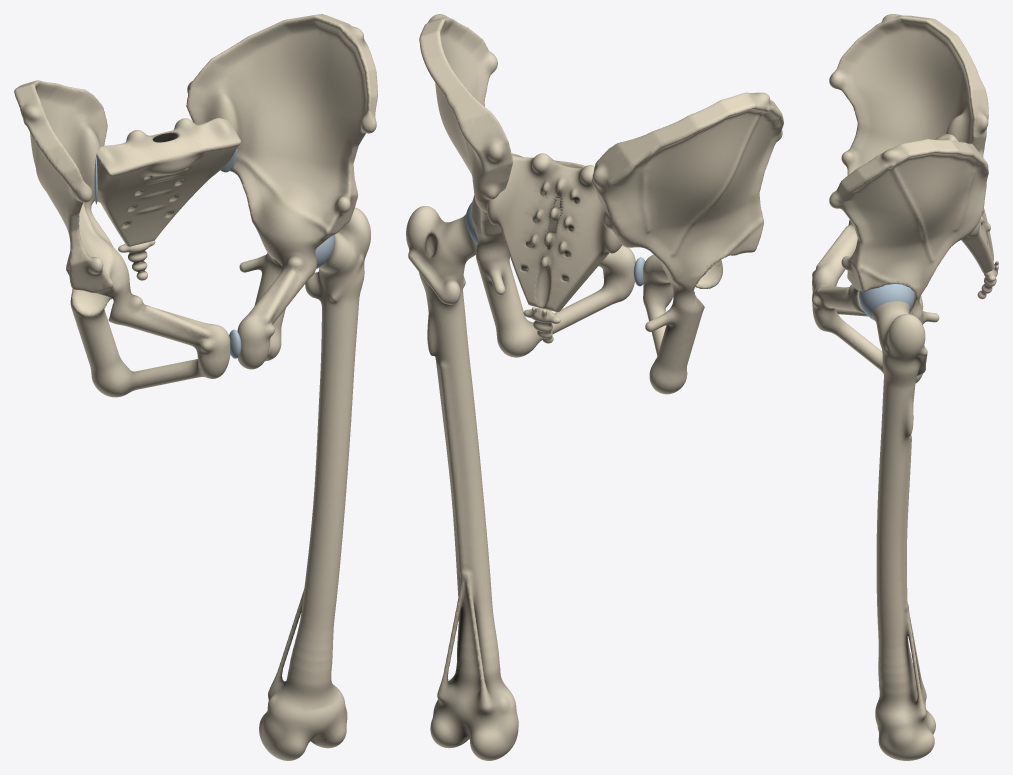
Rendered from articulacion-de-la-cadera-anterior.glb.
The picture shows the model from 3 angles, left to right: view 1: azimuth 30°, elevation 25°; view 2: azimuth 150°, elevation 25°; view 3: azimuth 270°, elevation 25°; orthographic projection. The views are drawn at different scales.
Visible parts, largest first — view 1: ilium_L, femur_L_shaft, ilium_R, pubis_R, pubis_L, ischium_R, sacrum_ala, femur_L_neck, femur_L_patellar_surface, ischium_L, sacrum_S5, sacrum_S3 (+7 smaller); view 2: ilium_R, femur_L_shaft, ilium_L, ischium_L, ischium_R, sacrum_lateral_crests, pubis_L, sacrum_S5, femur_L_greater_trochanter, pubis_R, femur_L_neck, femur_L_linea_aspera (+11 smaller); view 3: ilium_L, ilium_R, femur_L_shaft, pubis_L, femur_L_greater_trochanter, pubis_R, femur_L_neck, femur_L_lateral_condyle, femoral_head_cartilage_L, ischium_L, sacrum_S5, femur_L_supracondylar_lines (+3 smaller).
Boxes of the visible parts, box(x1,y1,x2,y2) form: ilium_L: box(186, 14, 377, 245); femur_L_shaft: box(265, 303, 358, 740); ilium_R: box(14, 80, 129, 294); pubis_R: box(103, 280, 230, 387); pubis_L: box(237, 241, 324, 369); ischium_R: box(67, 271, 151, 397); sacrum_ala: box(96, 119, 240, 193); femur_L_neck: box(318, 229, 364, 311); femur_L_patellar_surface: box(288, 692, 345, 758); ischium_L: box(239, 232, 285, 361); sacrum_S5: box(105, 201, 187, 246); sacrum_S3: box(97, 163, 226, 204); ilium_R: box(591, 92, 783, 278); femur_L_shaft: box(426, 296, 517, 736); ilium_L: box(419, 14, 512, 232); ischium_L: box(472, 222, 566, 357); ischium_R: box(645, 273, 704, 394); sacrum_lateral_crests: box(493, 168, 607, 275); pubis_L: box(554, 245, 635, 329); sacrum_S5: box(508, 250, 594, 311); femur_L_greater_trochanter: box(406, 206, 461, 281); pubis_R: box(643, 255, 722, 343); femur_L_neck: box(421, 215, 476, 304); femur_L_linea_aspera: box(440, 364, 464, 573); ilium_L: box(829, 139, 988, 292); ilium_R: box(829, 14, 988, 175); femur_L_shaft: box(876, 384, 926, 736); pubis_L: box(812, 283, 874, 364); femur_L_greater_trochanter: box(886, 314, 925, 376); pubis_R: box(812, 219, 867, 316); femur_L_neck: box(873, 304, 921, 389); femur_L_lateral_condyle: box(882, 724, 934, 760); femoral_head_cartilage_L: box(859, 284, 914, 320); ischium_L: box(873, 283, 939, 383); sacrum_S5: box(968, 212, 993, 273); femur_L_supracondylar_lines: box(906, 606, 925, 712).
Bounding box in the file's own units: 0.2999 × 0.5894 × 0.1598.
